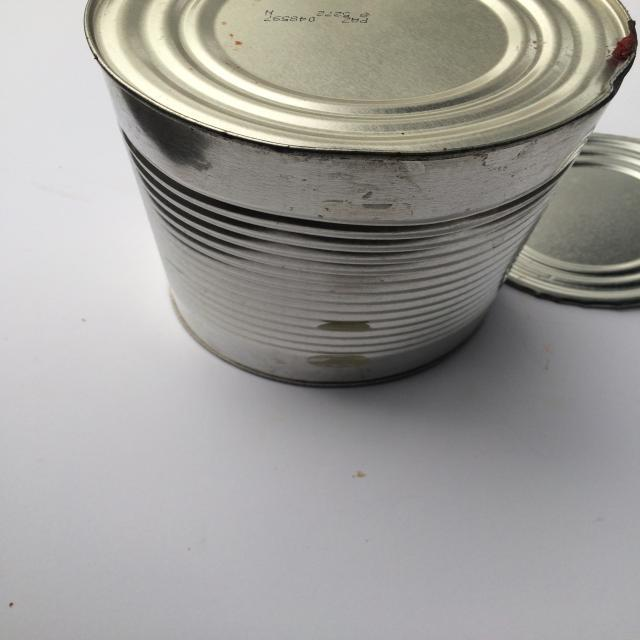metal: (81, 0, 640, 391)
